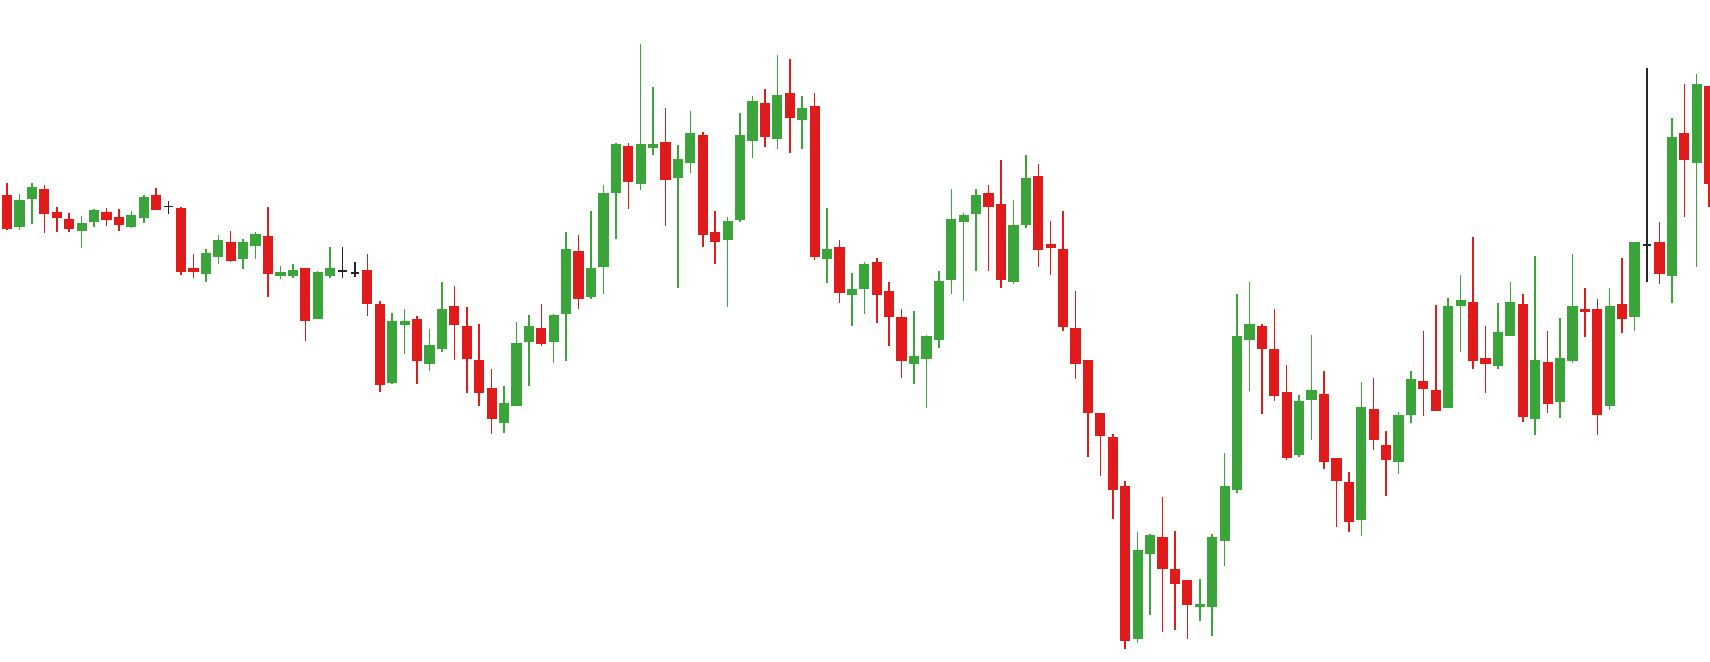buy: (374, 314, 525, 435), (1528, 321, 1618, 446)
